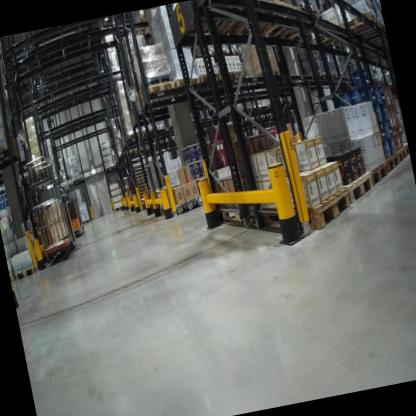pallet: (250, 180, 356, 243), (180, 0, 265, 45), (215, 191, 259, 241), (338, 9, 382, 43), (306, 25, 350, 57), (141, 77, 179, 113), (344, 170, 378, 206), (246, 67, 284, 95), (164, 192, 205, 217), (359, 17, 388, 49), (130, 12, 158, 42), (0, 135, 24, 168), (11, 260, 40, 283), (368, 160, 390, 186), (173, 72, 202, 91), (30, 166, 52, 186), (199, 68, 221, 85), (390, 145, 408, 163), (384, 151, 401, 170), (209, 44, 230, 59), (123, 130, 144, 144), (140, 125, 160, 139), (315, 66, 330, 81), (125, 144, 145, 155), (218, 70, 236, 82), (69, 174, 83, 188), (233, 68, 246, 82), (401, 141, 410, 159), (231, 45, 243, 58), (8, 267, 18, 282), (243, 114, 255, 126), (255, 111, 267, 122), (328, 70, 338, 82), (113, 203, 124, 213), (104, 164, 115, 171), (80, 217, 91, 224), (267, 110, 275, 118)
pallet_truck: (57, 175, 87, 238)
